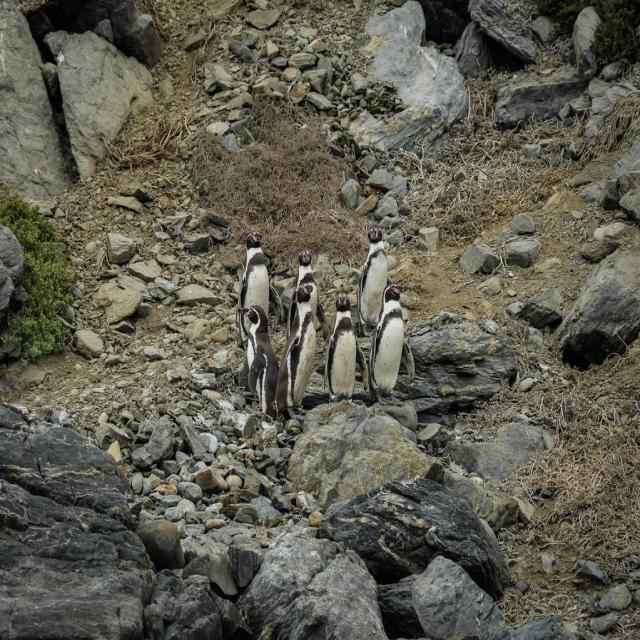Penguins: (234, 303, 278, 419), (283, 278, 318, 412), (370, 284, 408, 400), (289, 243, 327, 354), (324, 288, 359, 408), (359, 222, 395, 334), (242, 223, 271, 352)
